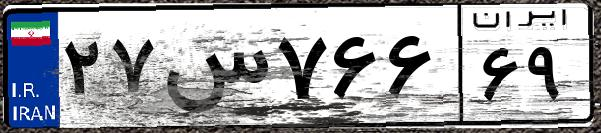2: (57, 26, 110, 100)
6: (385, 28, 445, 110), (330, 28, 385, 110), (475, 38, 525, 113)
7: (270, 28, 330, 110), (110, 28, 158, 98)
9: (525, 38, 570, 115)
س: (158, 20, 270, 120)
